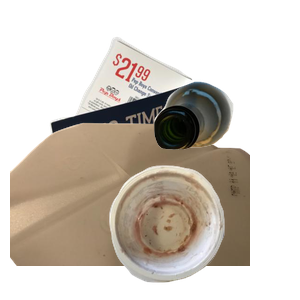glass: (151, 79, 300, 221)
paper: (45, 34, 230, 214)
plastic: (10, 120, 250, 300)
trash: (107, 163, 300, 300)
